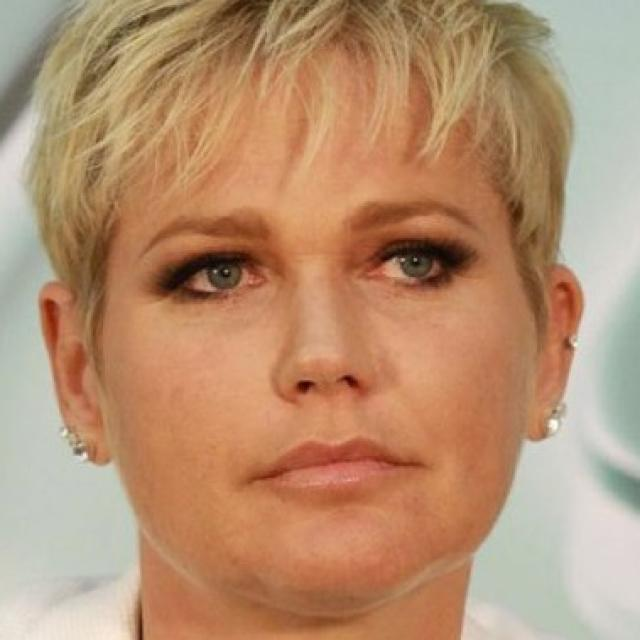Depress: (83, 34, 537, 623)
